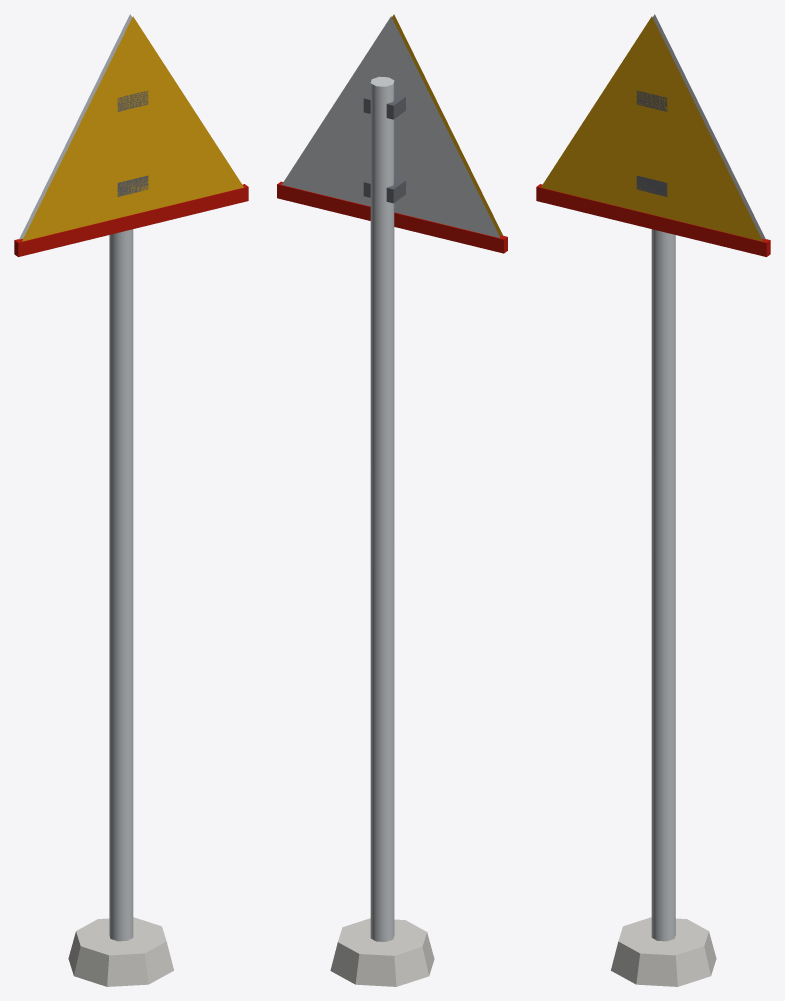
File: SM_RoadSign_Pedestrian.fbx
3 views of the same model, side by side, from view 1: azimuth 30°, elevation 25°; view 2: azimuth 150°, elevation 25°; view 3: azimuth 330°, elevation 25° (orthographic).
Parts seen in each view (by area): view 1: SM_RoadSign_Pedestrian; view 2: SM_RoadSign_Pedestrian; view 3: SM_RoadSign_Pedestrian.
Boxes of the visible parts, box(x1,y1,x2,y2) form: SM_RoadSign_Pedestrian: box(14, 14, 248, 986); SM_RoadSign_Pedestrian: box(277, 14, 507, 986); SM_RoadSign_Pedestrian: box(536, 14, 770, 986).
Size of the model in its own units: 68 by 270 by 28.
